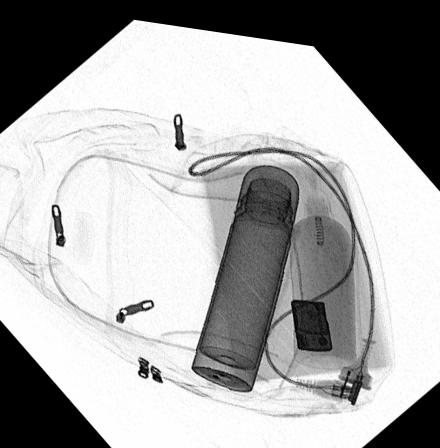Lighter: (289, 290, 332, 342)
